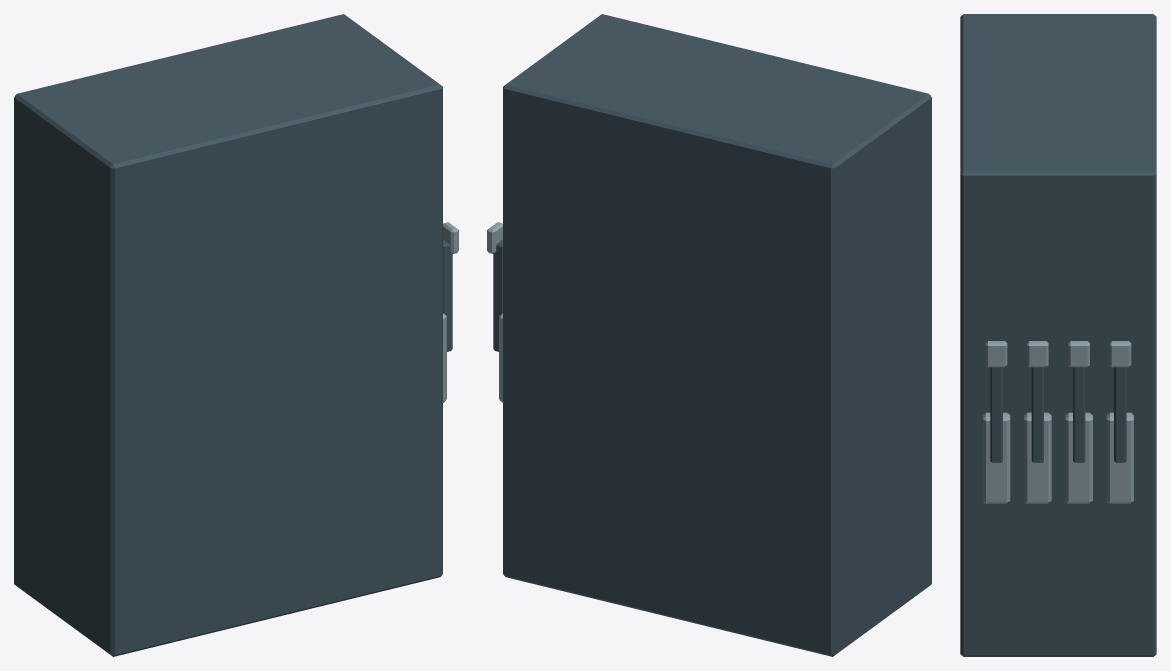
File: leviers_couloir.glb
The picture shows the model from 3 angles, left to right: view 1: azimuth 30°, elevation 25°; view 2: azimuth 150°, elevation 25°; view 3: azimuth 270°, elevation 25°; orthographic projection.
Visible parts, largest first — view 1: leviers_couloir; view 2: leviers_couloir; view 3: leviers_couloir.
Boxes of the visible parts, x1,y1,x2,y2 form: leviers_couloir: (14,14,458,656); leviers_couloir: (487,14,931,656); leviers_couloir: (960,14,1156,656).
Size of the model in its own units: 1.15 by 1.5 by 0.55.
Materials: 1 (1 with a texture image).
